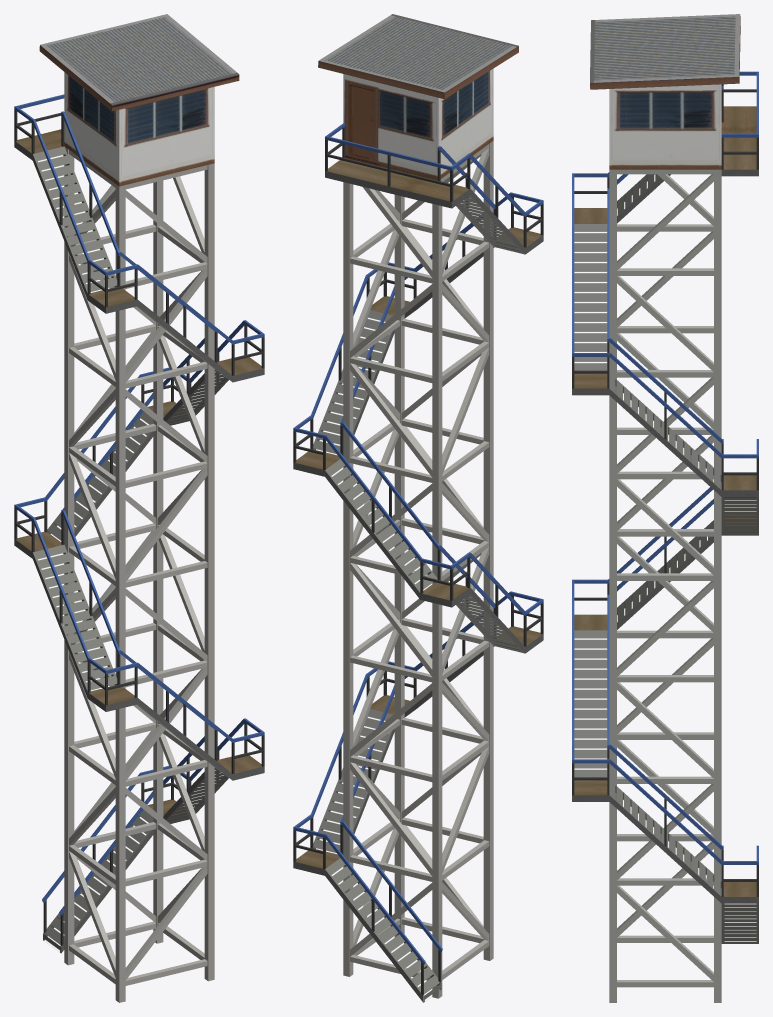
The model's file is fire-tower-27m-cbj_LOD00.gltf.
3 renders of one model, left to right at view 1: azimuth 30°, elevation 25°; view 2: azimuth 150°, elevation 25°; view 3: azimuth 270°, elevation 25°, orthographic. The views are drawn at different scales.
Parts seen in each view (by area): view 1: Cube; view 2: Cube; view 3: Cube.
Boxes of the visible parts, bbox=[...] form: Cube: bbox=[14, 14, 264, 1002]; Cube: bbox=[293, 14, 543, 1002]; Cube: bbox=[572, 14, 758, 1002].
Bounding box in the file's own units: 5 × 27.58 × 5.
